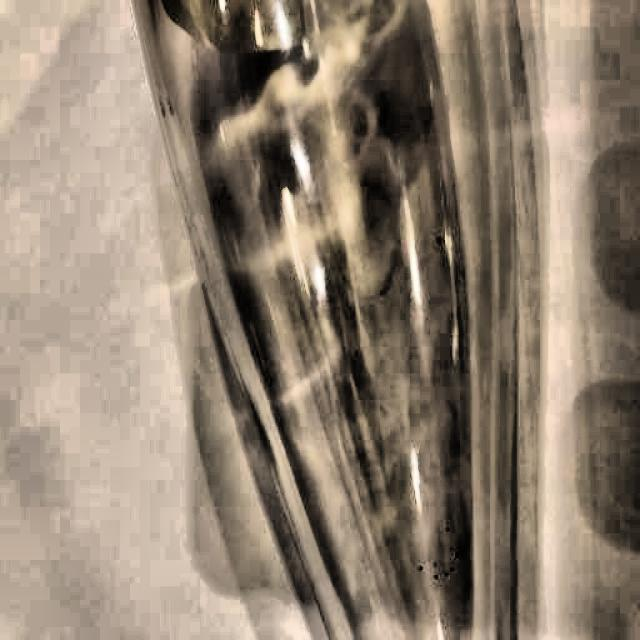glass: (126, 0, 572, 640)
